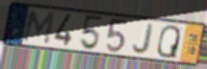4: (53, 13, 74, 48)
5: (78, 14, 106, 51), (103, 17, 131, 54)
J: (132, 22, 156, 55)
M: (21, 9, 56, 46)
Q: (156, 24, 182, 61)
